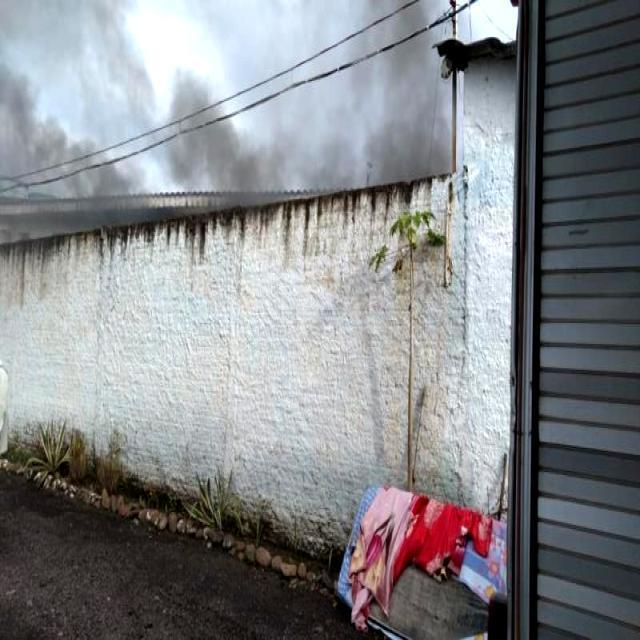Smoke: (0, 0, 457, 222)
